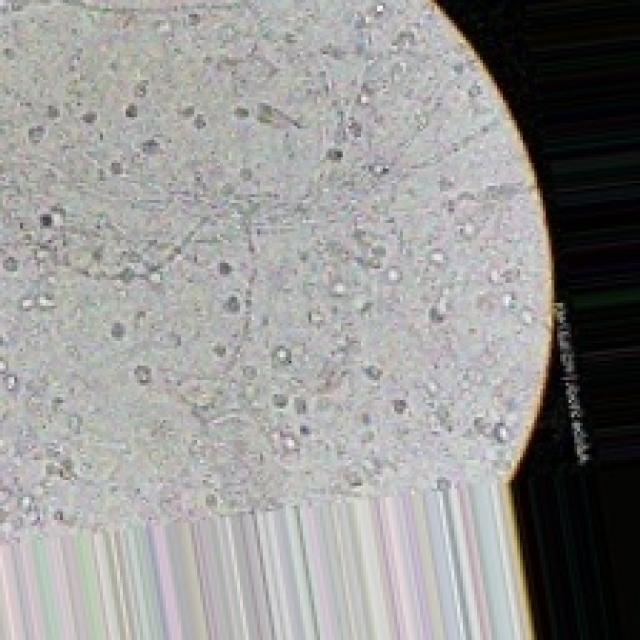Rod_bacteria: (0, 0, 560, 637)
